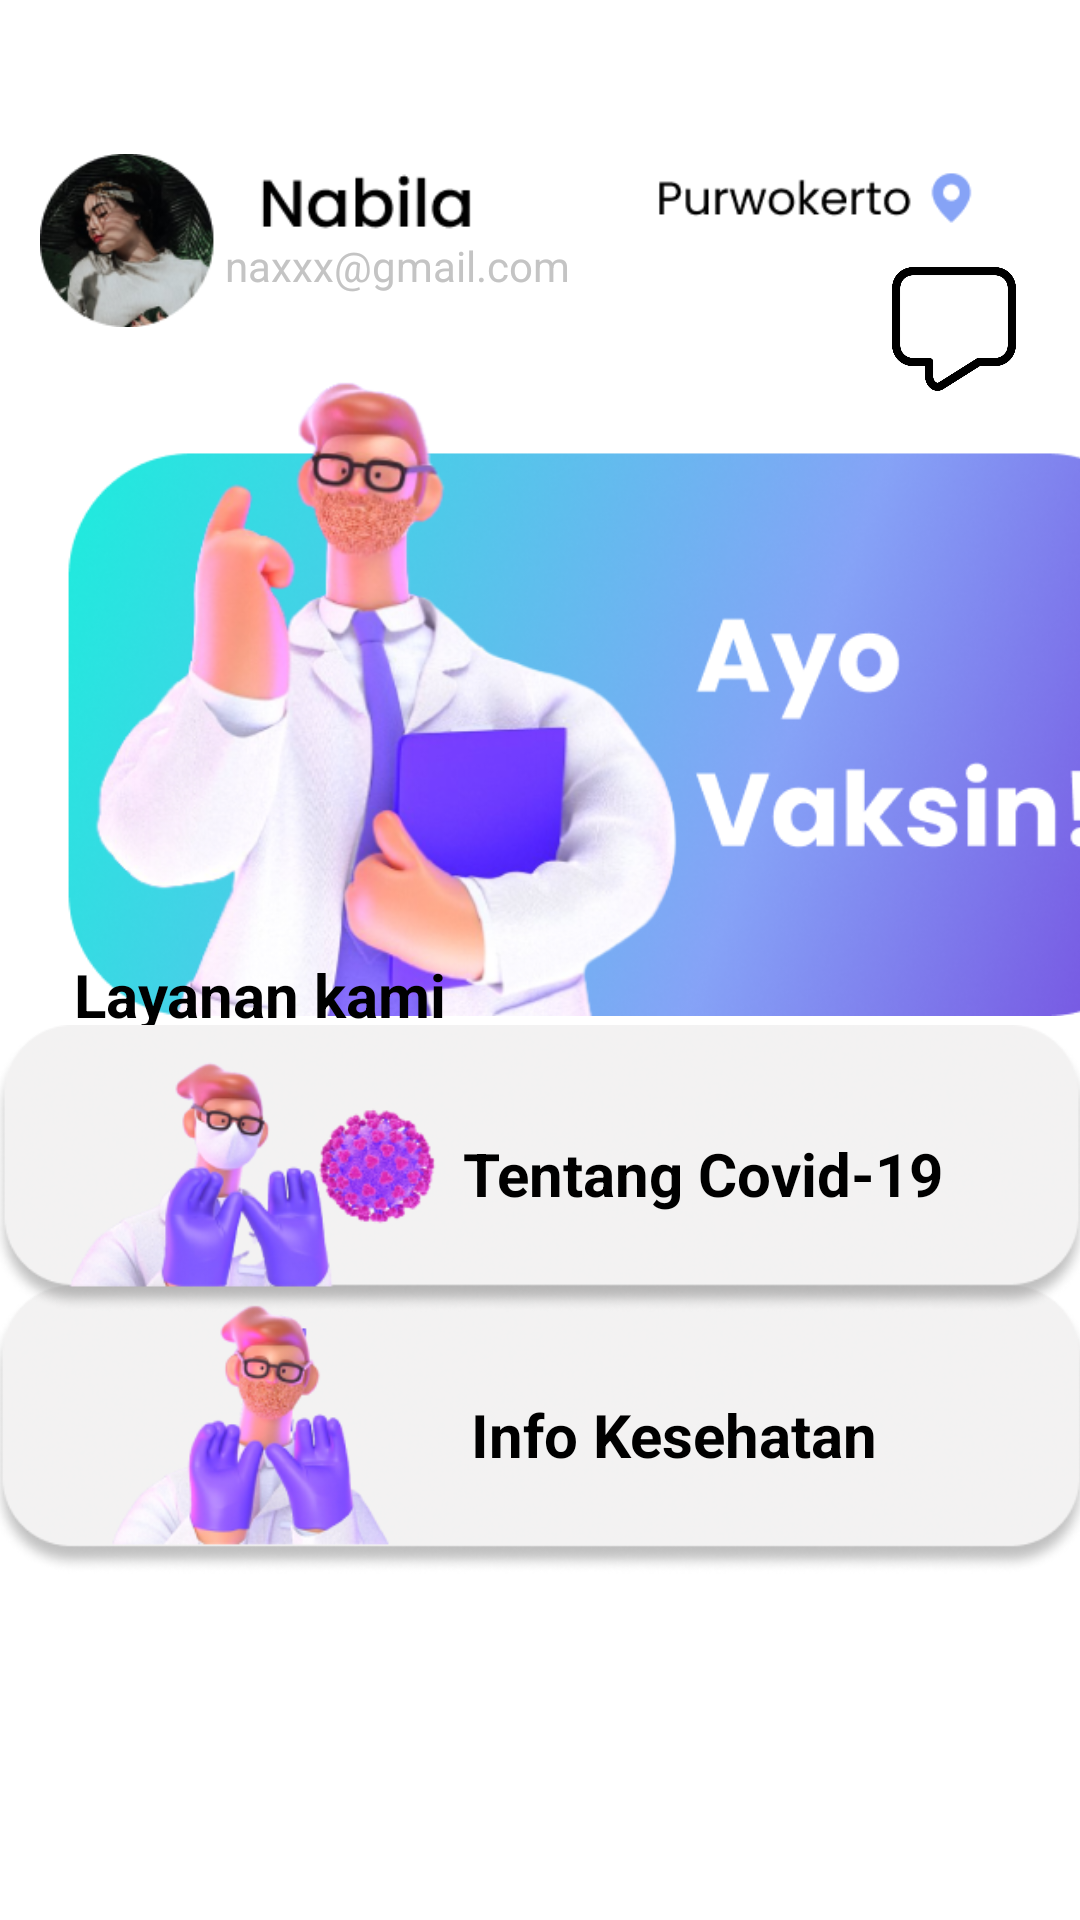

Screen size 1080px x 1920px. Icon name, then its center in pixels as [x,y]:
chat: [954,329]
